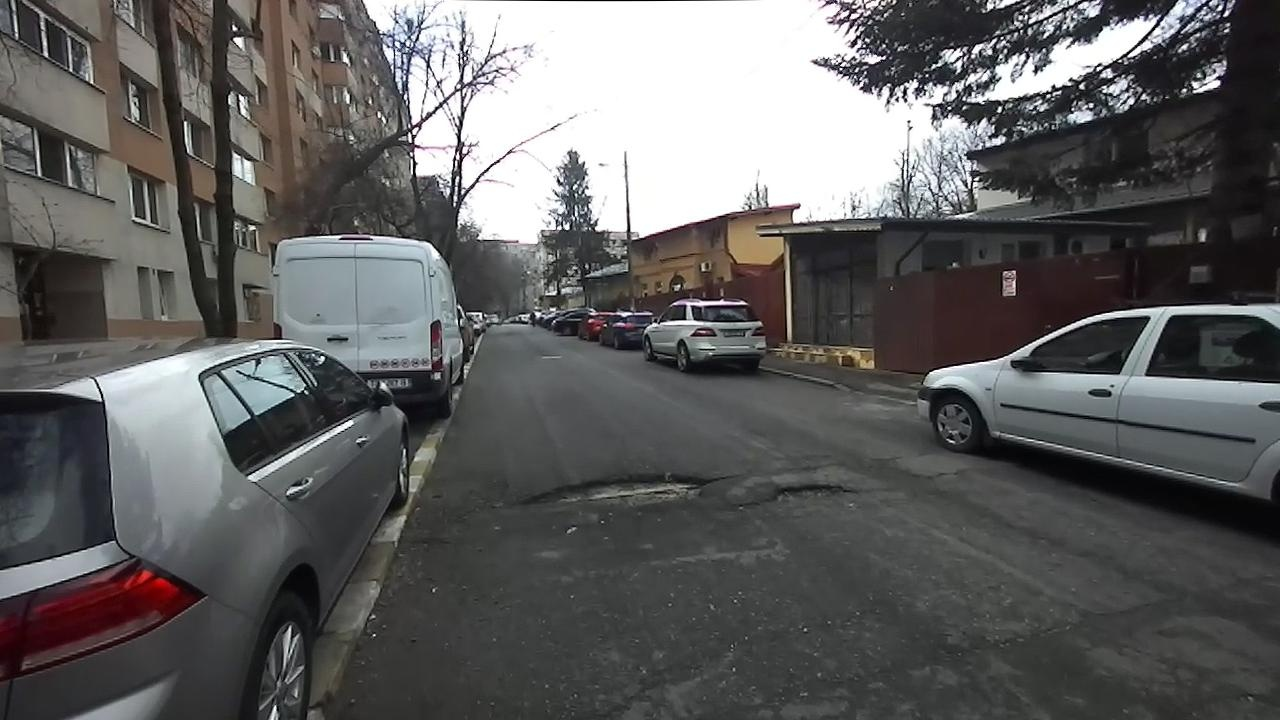pothole: (492, 470, 728, 513), (735, 476, 861, 511)
